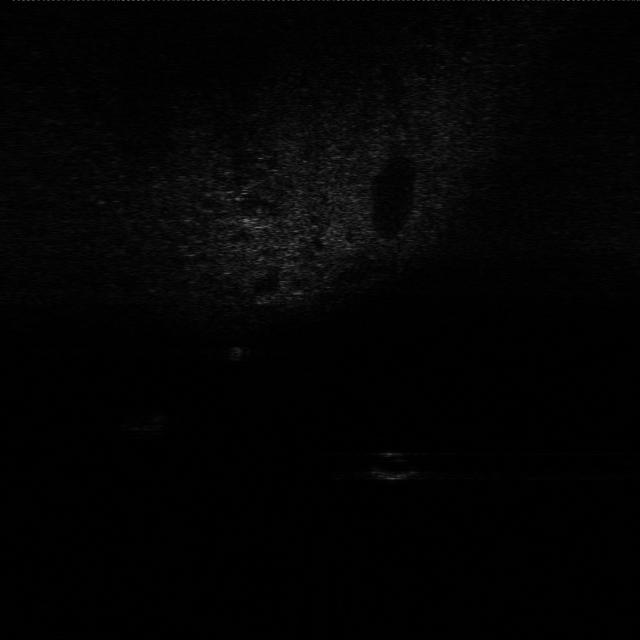ball: (368, 450, 422, 480)
circle cage: (120, 412, 176, 436)
cube: (224, 344, 252, 364)
